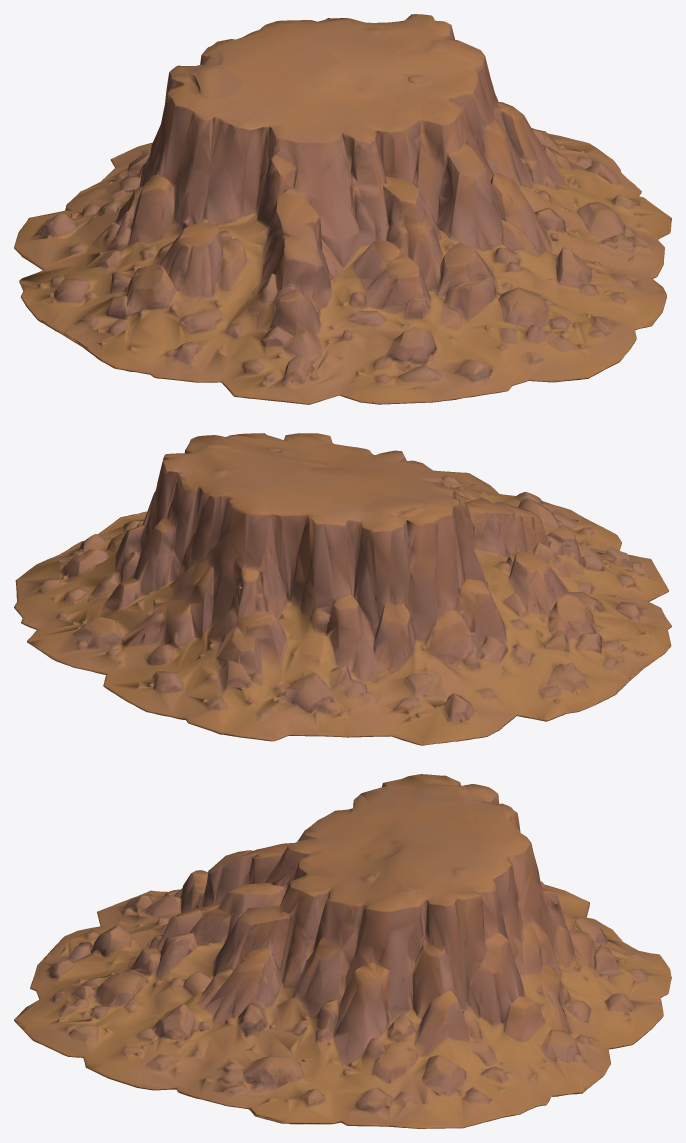
File: meseta_desertica_2.glb
The picture shows the model from 3 angles, top to bottom: view 1: azimuth 30°, elevation 25°; view 2: azimuth 150°, elevation 25°; view 3: azimuth 270°, elevation 25°; orthographic projection. The views are drawn at different scales.
Visible parts, largest first — view 1: meseta_desertica_2; view 2: meseta_desertica_2; view 3: meseta_desertica_2.
Part boxes in pixels (left/top/right/bottom): meseta_desertica_2: left=14, top=14, right=671, bottom=404; meseta_desertica_2: left=14, top=433, right=671, bottom=745; meseta_desertica_2: left=14, top=774, right=671, bottom=1128.
Size of what is drawn, in the model's own units: 62.96 by 18 by 64.01.
Materials: 1 (1 with a texture image).
